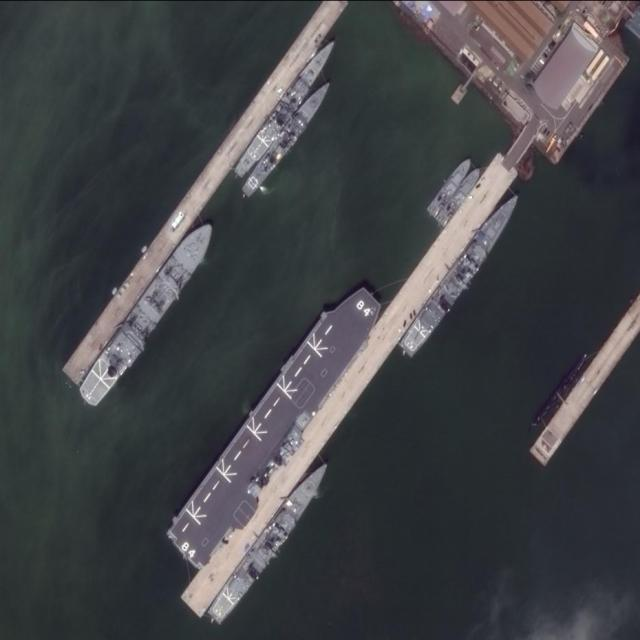Auxiliary Ships: (74, 215, 222, 410)
Destroyer: (162, 278, 385, 567), (394, 188, 528, 360), (204, 456, 336, 627), (231, 34, 340, 179), (240, 75, 335, 200)
Dock: (172, 132, 544, 614)
Other Warship: (434, 165, 484, 226), (425, 156, 475, 216)
Submarine: (527, 349, 595, 431)
